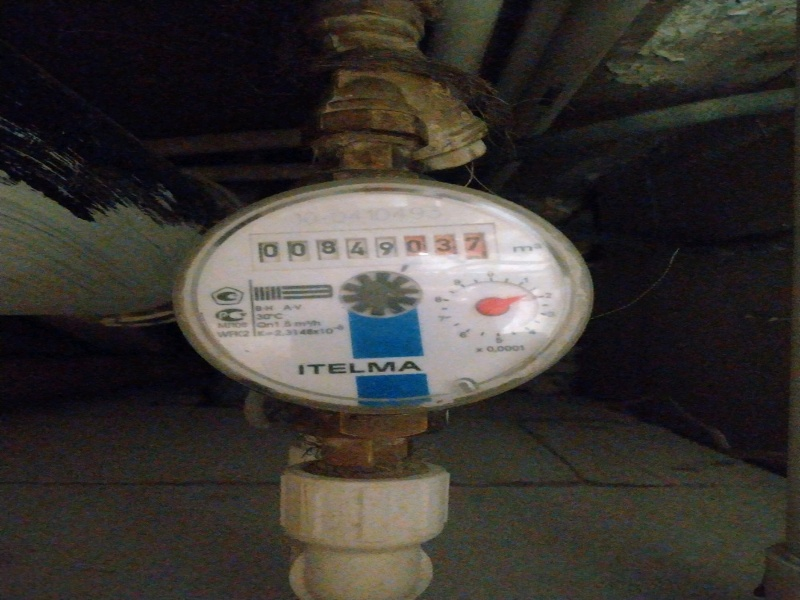meter: (244, 228, 496, 262)
